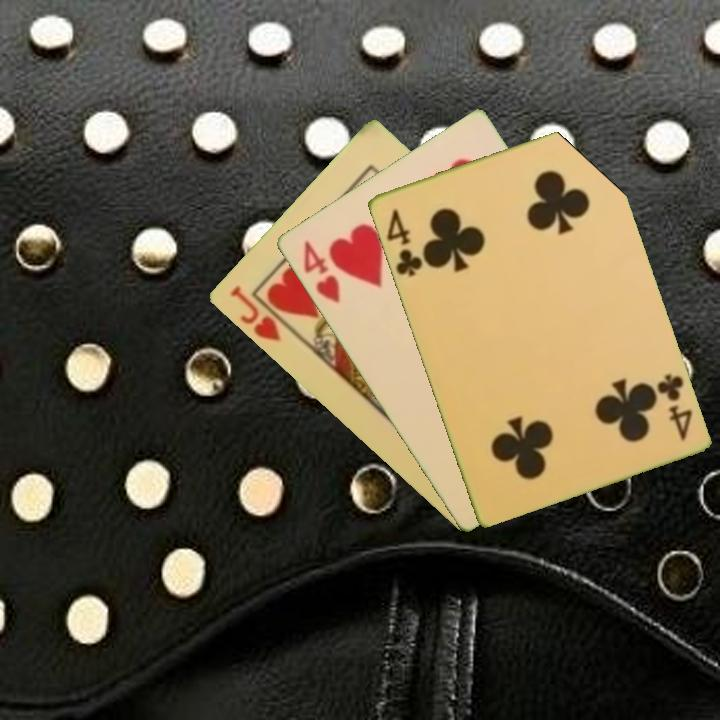4c: (382, 205, 425, 279), (652, 370, 695, 444)
4h: (299, 237, 343, 306)
Jh: (226, 282, 284, 345)
